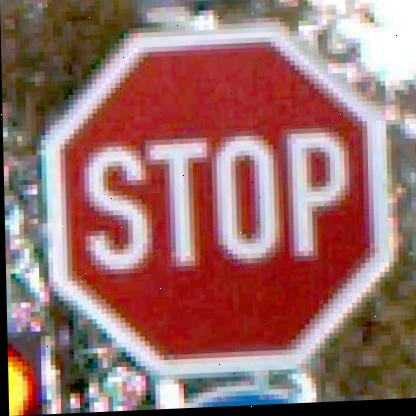Stop Sign: (36, 12, 399, 382)
